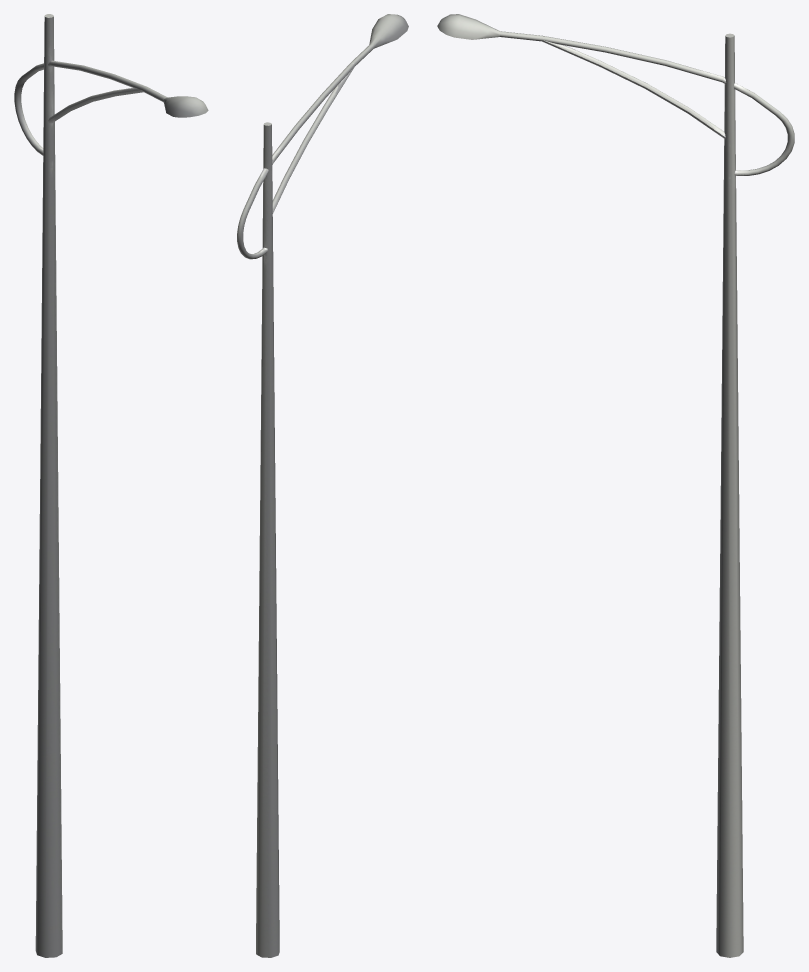
File: tree_l.FBX
3 renders of one model, left to right at view 1: azimuth 30°, elevation 25°; view 2: azimuth 150°, elevation 25°; view 3: azimuth 270°, elevation 25°, orthographic. The views are drawn at different scales.
Visible parts, largest first — view 1: deng; view 2: deng; view 3: deng.
Part boxes in pixels (x1=…): deng: x1=14, y1=14, x2=208, y2=957; deng: x1=237, y1=14, x2=408, y2=957; deng: x1=437, y1=14, x2=794, y2=957.
Size of the model in its own units: 0.6336 by 17.2 by 5.96.
Materials: 1 (1 with a texture image).
